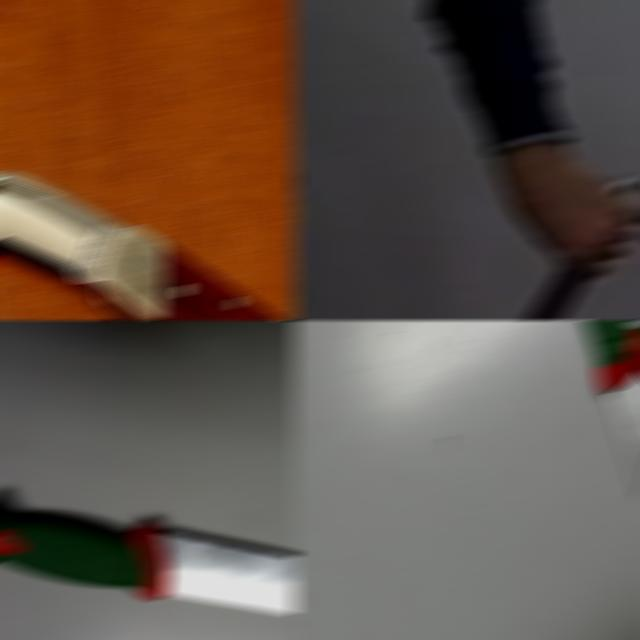Knife: (0, 494, 298, 614), (478, 260, 595, 320)
Knife_Handle: (476, 155, 638, 320)
